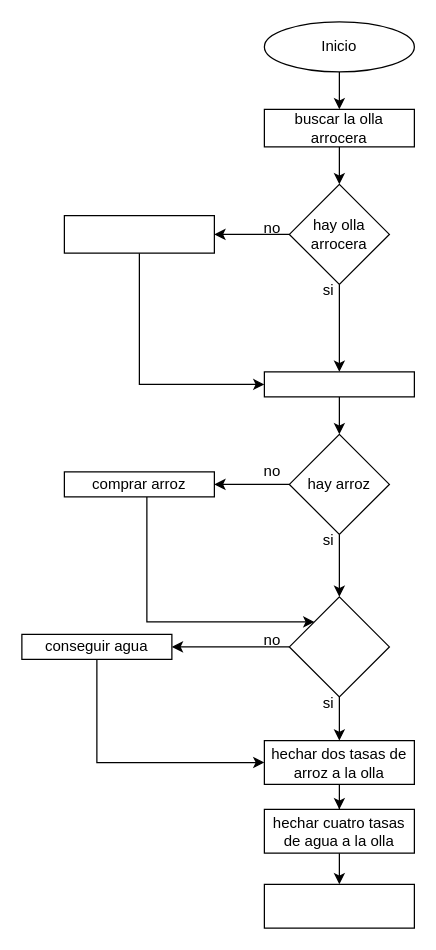
Image size: 436x950. Some labels were removed from this diagram. Here are the shapes that lost their labels. From the top down, the box of each, then its label:
(63, 214, 214, 253): comprar una olla arrocera
(263, 371, 414, 397): bucar el arroz
(288, 596, 389, 697): hay agua
(263, 883, 414, 928): poner la olla en la estufa
